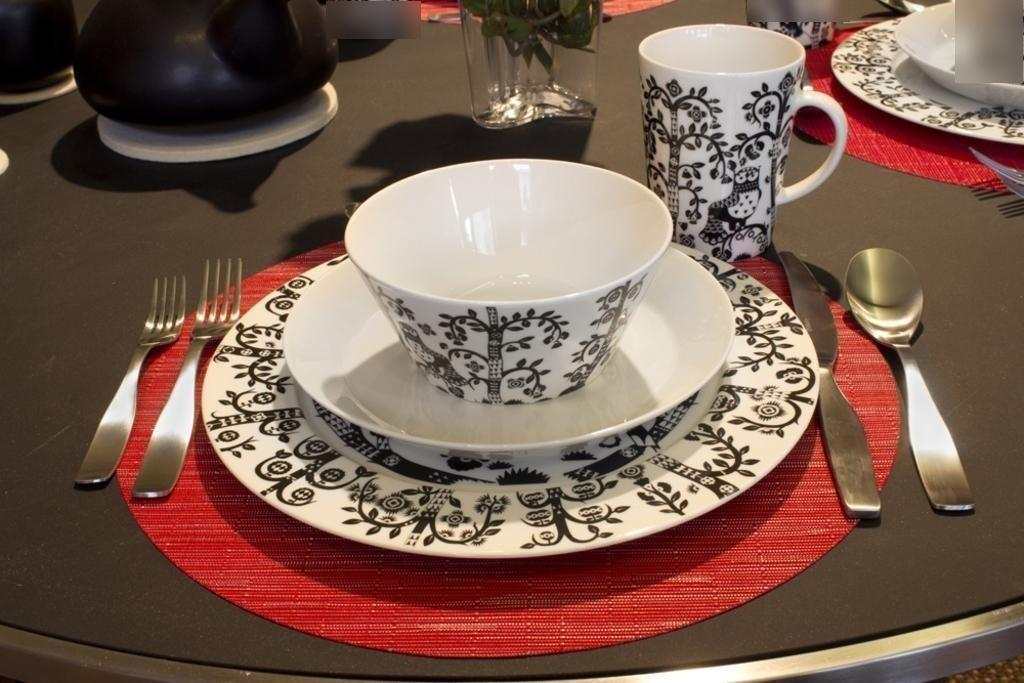cup-handle: (341, 156, 674, 407), (634, 22, 850, 265)
